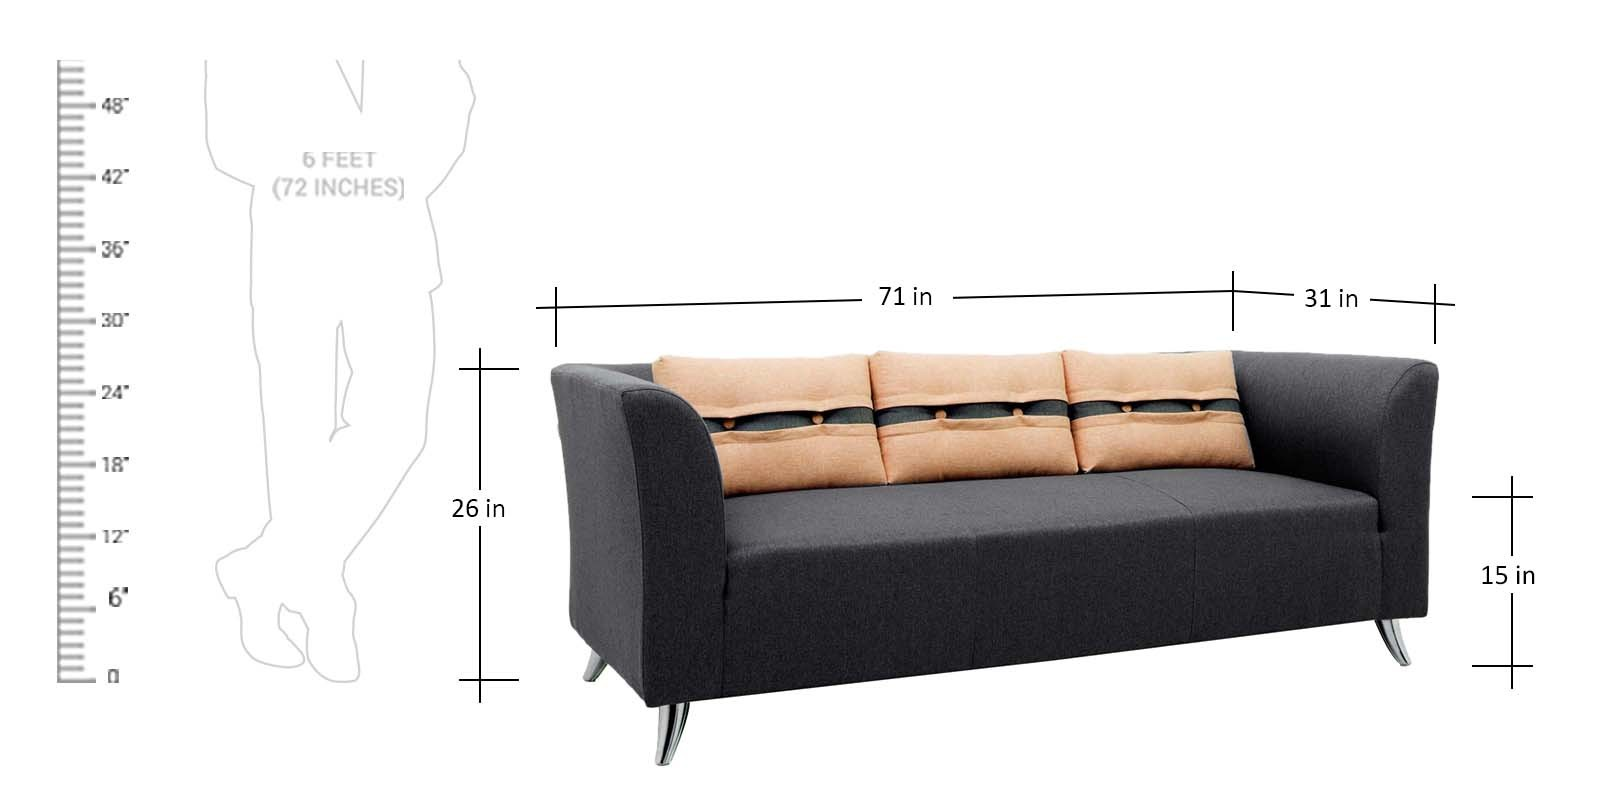Iowa Three Seater Sofa in Steel Grey Colour by Furnitech: (537, 340, 1476, 772)
